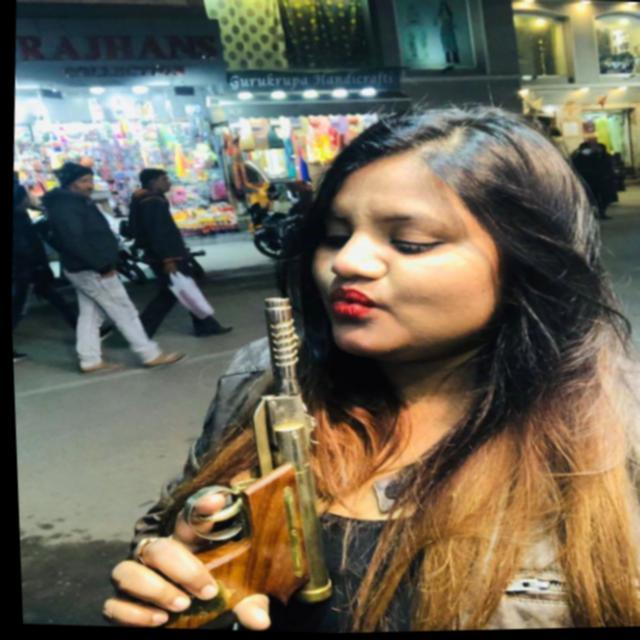weapon: (98, 282, 362, 638)
